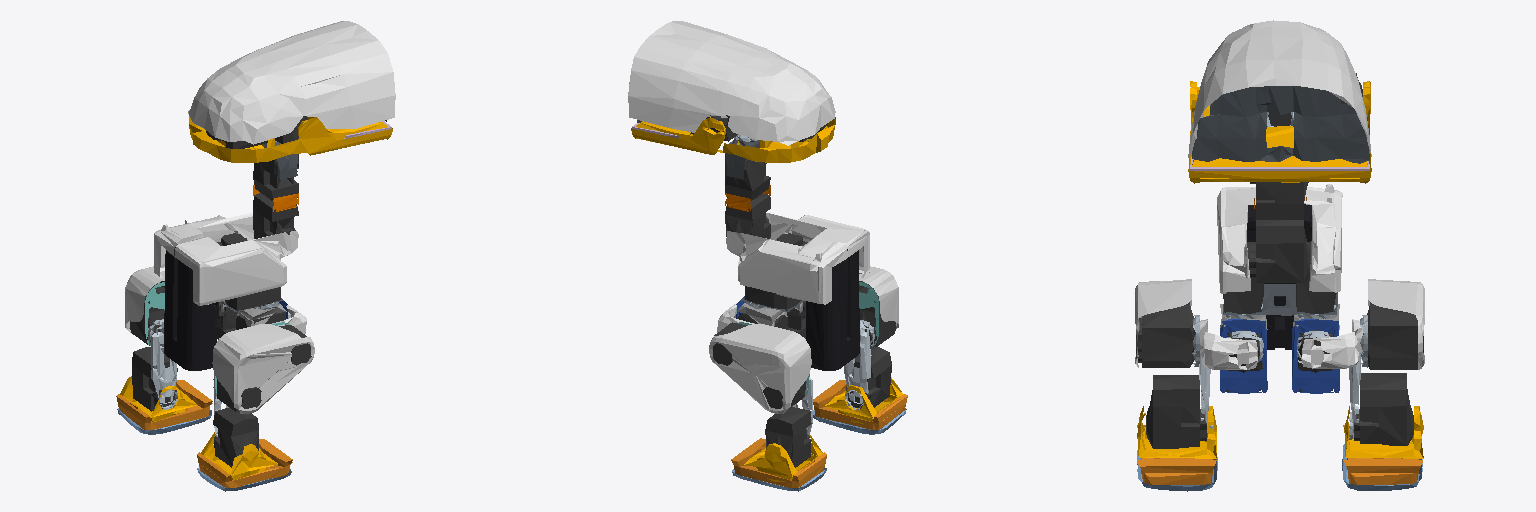
robot.urdf — microduck_alpha_simplified:
<?xml version='1.0' encoding='utf-8'?>
<robot name="microduck_alpha_simplified">
  <link name="world" />
  <link name="body_0">
    <visual>
      <origin xyz="0.006000000052 0.01750000007 -0.004999999888" rpy="0 0 0" />
      <geometry>
        <mesh filename="meshes/0.stl" />
      </geometry>
      <material name="part_0_0">
        <color rgba="0.7137254902 0.7607843137 0.8 1" />
      </material>
    </visual>
    <visual>
      <origin xyz="0.00400000019 1.100499958e-06 -0.01755760051" rpy="0 -0 1.570796327" />
      <geometry>
        <mesh filename="meshes/1.stl" />
      </geometry>
      <material name="part_0_1">
        <color rgba="0.9176470588 0.9176470588 0.9176470588 1" />
      </material>
    </visual>
    <visual>
      <origin xyz="0.00400000019 -0 -0.01750000007" rpy="0 0 1.570796327" />
      <geometry>
        <mesh filename="meshes/2.stl" />
      </geometry>
      <material name="part_0_2">
        <color rgba="0.3490196078 0.3764705882 0.4 1" />
      </material>
    </visual>
    <visual>
      <origin xyz="0.006000000052 0.01750000007 0.01150000002" rpy="0 -1.570796327 3.141592654" />
      <geometry>
        <mesh filename="meshes/3.stl" />
      </geometry>
      <material name="part_0_3">
        <color rgba="0.2862745098 0.2862745098 0.2862745098 1" />
      </material>
    </visual>
    <visual>
      <origin xyz="-0.03596929833 -0 -0.003850490088" rpy="3.124139372 -0 -1.570796327" />
      <geometry>
        <mesh filename="meshes/4.stl" />
      </geometry>
      <material name="part_0_4">
        <color rgba="0.1607843137 0.1607843137 0.1803921569 1" />
      </material>
    </visual>
    <visual>
      <origin xyz="0.006000000052 -0.01750000007 0.01150000002" rpy="0 -1.570796327 -3.141592654" />
      <geometry>
        <mesh filename="meshes/3.stl" />
      </geometry>
      <material name="part_0_3">
        <color rgba="0.2862745098 0.2862745098 0.2862745098 1" />
      </material>
    </visual>
    <visual>
      <origin xyz="0.00400000019 1.100499958e-06 -0.01755760051" rpy="0 -0 1.570796327" />
      <geometry>
        <mesh filename="meshes/5.stl" />
      </geometry>
      <material name="part_0_5">
        <color rgba="0.9176470588 0.9176470588 0.9176470588 1" />
      </material>
    </visual>
    <visual>
      <origin xyz="0.006000000052 -0.01750000007 -0.004999999888" rpy="0 0 0" />
      <geometry>
        <mesh filename="meshes/0.stl" />
      </geometry>
      <material name="part_0_0">
        <color rgba="0.7137254902 0.7607843137 0.8 1" />
      </material>
    </visual>
  </link>
  <joint name="fixed_0" type="fixed">
    <parent link="world" />
    <child link="body_0" />
    <origin xyz="0 0 0.1199999973" rpy="0 -0 0" />
  </joint>
  <link name="body_1">
    <visual>
      <origin xyz="-0.01750000007 -0.002000000095 0.01250000019" rpy="3.141592654 -0 0" />
      <geometry>
        <mesh filename="meshes/6.stl" />
      </geometry>
      <material name="part_1_6">
        <color rgba="0.6470588235 0.6470588235 0.6470588235 1" />
      </material>
    </visual>
    <visual>
      <origin xyz="-0 0 0.01250000019" rpy="-3.141592654 -0 -1.570796327" />
      <geometry>
        <mesh filename="meshes/3.stl" />
      </geometry>
      <material name="part_1_3">
        <color rgba="0.2862745098 0.2862745098 0.2862745098 1" />
      </material>
    </visual>
    <visual>
      <origin xyz="-0 0.01649999991 0.01250000019" rpy="0 1.570796327 -1.570796327" />
      <geometry>
        <mesh filename="meshes/0.stl" />
      </geometry>
      <material name="part_1_0">
        <color rgba="0.7137254902 0.7607843137 0.8 1" />
      </material>
    </visual>
    <visual>
      <origin xyz="-0.01750000007 -0.002000000095 0.01250000019" rpy="3.141592654 -0 0" />
      <geometry>
        <mesh filename="meshes/7.stl" />
      </geometry>
      <material name="part_1_7">
        <color rgba="0.231372549 0.3803921569 0.7058823529 1" />
      </material>
    </visual>
  </link>
  <joint name="left_hip_yaw" type="revolute">
    <parent link="body_0" />
    <child link="body_1" />
    <origin xyz="0.006000000052 0.01750000007 -0.004999999888" rpy="3.141592654 -0 1.570796327" />
    <axis xyz="0 0 1" />
    <limit lower="-0.4363323129985824" upper="0.5235987755982988" effort="1" velocity="1" />
  </joint>
  <link name="body_2">
    <visual>
      <origin xyz="0.02099999972 0 -0.01850000024" rpy="1.570796327 -0 1.570796327" />
      <geometry>
        <mesh filename="meshes/0.stl" />
      </geometry>
      <material name="part_2_0">
        <color rgba="0.7137254902 0.7607843137 0.8 1" />
      </material>
    </visual>
    <visual>
      <origin xyz="-0.01750000007 0 -0.01850000024" rpy="-1.570796327 0 0" />
      <geometry>
        <mesh filename="meshes/8.stl" />
      </geometry>
      <material name="part_2_8">
        <color rgba="0.9019607843 0.9019607843 0.9019607843 1" />
      </material>
    </visual>
  </link>
  <joint name="left_hip_roll" type="revolute">
    <parent link="body_1" />
    <child link="body_2" />
    <origin xyz="-0 0.01649999991 0.01250000019" rpy="-1.570796327 -0 0" />
    <axis xyz="0 0 1" />
    <limit lower="-0.3839724354387516" upper="0.38397243543875337" effort="1" velocity="1" />
  </joint>
  <link name="body_3">
    <visual>
      <origin xyz="0 -0 -0.04250000045" rpy="0 -1.570796327 -1.570796327" />
      <geometry>
        <mesh filename="meshes/9.stl" />
      </geometry>
      <material name="part_3_9">
        <color rgba="0.8666666667 0.8666666667 0.8666666667 1" />
      </material>
    </visual>
    <visual>
      <origin xyz="0.02199999988 0.03577709943 0.01250000019" rpy="0 -1.570796327 -3.141592654" />
      <geometry>
        <mesh filename="meshes/3.stl" />
      </geometry>
      <material name="part_3_3">
        <color rgba="0.2862745098 0.2862745098 0.2862745098 1" />
      </material>
    </visual>
    <visual>
      <origin xyz="0 -0 -0.04250000045" rpy="0 -1.570796327 -1.570796327" />
      <geometry>
        <mesh filename="meshes/10.stl" />
      </geometry>
      <material name="part_3_10">
        <color rgba="0.537254902 0.8549019608 0.8274509804 1" />
      </material>
    </visual>
    <visual>
      <origin xyz="0.02199999988 0.03577709943 -0.00400000019" rpy="0 0 3.141592654" />
      <geometry>
        <mesh filename="meshes/0.stl" />
      </geometry>
      <material name="part_3_0">
        <color rgba="0.7137254902 0.7607843137 0.8 1" />
      </material>
    </visual>
    <visual>
      <origin xyz="0 -0 0.01250000019" rpy="0 -1.570796327 1.570796327" />
      <geometry>
        <mesh filename="meshes/3.stl" />
      </geometry>
      <material name="part_3_3">
        <color rgba="0.2862745098 0.2862745098 0.2862745098 1" />
      </material>
    </visual>
  </link>
  <joint name="left_hip_pitch" type="revolute">
    <parent link="body_2" />
    <child link="body_3" />
    <origin xyz="0.02500000037 0 -0.01850000024" rpy="-1.570796327 -0 -1.570796327" />
    <axis xyz="0 0 1" />
    <limit lower="-1.5707963267949037" upper="1.5707963267948895" effort="1" velocity="1" />
  </joint>
  <link name="body_4">
    <visual>
      <origin xyz="-0.02199999988 0.03577709943 0.03849999979" rpy="0 1.570796327 -1.570796327" />
      <geometry>
        <mesh filename="meshes/11.stl" />
      </geometry>
      <material name="part_4_11">
        <color rgba="0.8117647059 0.8588235294 0.8980392157 1" />
      </material>
    </visual>
    <visual>
      <origin xyz="-0 0.04199999943 -0.01150000002" rpy="0 -1.570796327 -1.570796327" />
      <geometry>
        <mesh filename="meshes/3.stl" />
      </geometry>
      <material name="part_4_3">
        <color rgba="0.2862745098 0.2862745098 0.2862745098 1" />
      </material>
    </visual>
  </link>
  <joint name="left_knee" type="revolute">
    <parent link="body_3" />
    <child link="body_4" />
    <origin xyz="0.02199999988 0.03577709943 -0.00400000019" rpy="3.141592654 0 1.570796327" />
    <axis xyz="0 0 1" />
    <limit lower="-1.570796326794901" upper="1.5707963267948921" effort="1" velocity="1" />
  </joint>
  <link name="body_5">
    <visual>
      <origin xyz="-0.02199999988 0.006222909782 -0.06469999999" rpy="0 -1.570796327 -1.570796327" />
      <geometry>
        <mesh filename="meshes/12.stl" />
      </geometry>
      <material name="part_5_12">
        <color rgba="0.5411764706 0.6823529412 0.8392156863 1" />
      </material>
    </visual>
    <visual>
      <origin xyz="-0.02199999988 0.006222909782 -0.06469999999" rpy="0 -1.570796327 -1.570796327" />
      <geometry>
        <mesh filename="meshes/13.stl" />
      </geometry>
      <material name="part_5_13">
        <color rgba="0.9098039216 0.5725490196 0.1647058824 1" />
      </material>
    </visual>
    <visual>
      <origin xyz="-0 0 -0.03220000118" rpy="0 -0 3.141592654" />
      <geometry>
        <mesh filename="meshes/14.stl" />
      </geometry>
      <material name="part_5_14">
        <color rgba="0.7137254902 0.7607843137 0.8 1" />
      </material>
    </visual>
    <visual>
      <origin xyz="-0.02199999988 0.006222909782 -0.06469999999" rpy="0 -1.570796327 -1.570796327" />
      <geometry>
        <mesh filename="meshes/15.stl" />
      </geometry>
      <material name="part_5_15">
        <color rgba="0.9803921569 0.7137254902 0.003921568627 1" />
      </material>
    </visual>
  </link>
  <joint name="left_ankle" type="revolute">
    <parent link="body_4" />
    <child link="body_5" />
    <origin xyz="-0 0.04199999943 -0.02600000054" rpy="3.141592654 0 0" />
    <axis xyz="0 0 1" />
    <limit lower="-1.5707963267949019" upper="1.5707963267948912" effort="1" velocity="1" />
  </joint>
  <link name="body_6">
    <visual>
      <origin xyz="0.02199999988 0.05000000075 0.02800000086" rpy="0 1.570796327 -1.570796327" />
      <geometry>
        <mesh filename="meshes/16.stl" />
      </geometry>
      <material name="part_6_16">
        <color rgba="0.9725490196 0.5294117647 0.003921568627 1" />
      </material>
    </visual>
    <visual>
      <origin xyz="0 0 0.01449999958" rpy="0 -1.570796327 -1.570796327" />
      <geometry>
        <mesh filename="meshes/3.stl" />
      </geometry>
      <material name="part_6_3">
        <color rgba="0.2862745098 0.2862745098 0.2862745098 1" />
      </material>
    </visual>
    <visual>
      <origin xyz="0 -0.05000000075 0.01449999958" rpy="0 -1.570796327 1.570796327" />
      <geometry>
        <mesh filename="meshes/3.stl" />
      </geometry>
      <material name="part_6_3">
        <color rgba="0.2862745098 0.2862745098 0.2862745098 1" />
      </material>
    </visual>
    <visual>
      <origin xyz="0.02199999988 0.05000000075 0.003000000026" rpy="0 1.570796327 -1.570796327" />
      <geometry>
        <mesh filename="meshes/16.stl" />
      </geometry>
      <material name="part_6_16">
        <color rgba="0.9725490196 0.5294117647 0.003921568627 1" />
      </material>
    </visual>
  </link>
  <joint name="neck_pitch" type="revolute">
    <parent link="body_0" />
    <child link="body_6" />
    <origin xyz="0.02600000054 0.01450110041 0.03244239837" rpy="-1.570796327 -0 3.141592654" />
    <axis xyz="0 0 1" />
    <limit lower="-1.5707963267948966" upper="1.0471975511965976" effort="1" velocity="1" />
  </joint>
  <link name="body_7">
    <visual>
      <origin xyz="-0 0.02879310027 -0.01449999958" rpy="0 -1.570796327 -1.570796327" />
      <geometry>
        <mesh filename="meshes/17.stl" />
      </geometry>
      <material name="part_7_17">
        <color rgba="0.3490196078 0.3764705882 0.4 1" />
      </material>
    </visual>
    <visual>
      <origin xyz="-0 0.02079310082 -0.01449999958" rpy="1.570796327 -0 0" />
      <geometry>
        <mesh filename="meshes/0.stl" />
      </geometry>
      <material name="part_7_0">
        <color rgba="0.7137254902 0.7607843137 0.8 1" />
      </material>
    </visual>
  </link>
  <joint name="head_pitch" type="revolute">
    <parent link="body_6" />
    <child link="body_7" />
    <origin xyz="0 -0.05000000075 0" rpy="3.141592654 -0 0" />
    <axis xyz="0 0 1" />
    <limit lower="-1.5707963267948966" upper="1.5707963267948966" effort="1" velocity="1" />
  </joint>
  <link name="body_8">
    <visual>
      <origin xyz="0 0 0.009999999776" rpy="0 -0 1.570796327" />
      <geometry>
        <mesh filename="meshes/18.stl" />
      </geometry>
      <material name="part_8_18">
        <color rgba="0.768627451 0.8862745098 0.9529411765 1" />
      </material>
    </visual>
    <visual>
      <origin xyz="0 0 0.01449999958" rpy="0 -1.570796327 -1.570796327" />
      <geometry>
        <mesh filename="meshes/3.stl" />
      </geometry>
      <material name="part_8_3">
        <color rgba="0.2862745098 0.2862745098 0.2862745098 1" />
      </material>
    </visual>
    <visual>
      <origin xyz="-0.01600000076 0 0.01449999958" rpy="0 -1.570796327 -0" />
      <geometry>
        <mesh filename="meshes/0.stl" />
      </geometry>
      <material name="part_8_0">
        <color rgba="0.7137254902 0.7607843137 0.8 1" />
      </material>
    </visual>
  </link>
  <joint name="head_yaw" type="revolute">
    <parent link="body_7" />
    <child link="body_8" />
    <origin xyz="-0 0.01869310066 -0.01449999958" rpy="1.570796327 -0 3.141592654" />
    <axis xyz="0 0 1" />
    <limit lower="-2.967059728390364" upper="2.967059728390357" effort="1" velocity="1" />
  </joint>
  <link name="body_9">
    <visual>
      <origin xyz="-0.00549999997 0 -0.01799999923" rpy="1.570796327 -0 1.570796327" />
      <geometry>
        <mesh filename="meshes/19.stl" />
      </geometry>
      <material name="part_9_19">
        <color rgba="0.3490196078 0.3764705882 0.4 1" />
      </material>
    </visual>
    <visual>
      <origin xyz="0.003958580084 0.02549999952 -0.01799999923" rpy="0 -0 -1.570796327" />
      <geometry>
        <mesh filename="meshes/3.stl" />
      </geometry>
      <material name="part_9_3">
        <color rgba="0.2862745098 0.2862745098 0.2862745098 1" />
      </material>
    </visual>
    <visual>
      <origin xyz="-0.003641420044 0 -0.01799960062" rpy="1.570796327 -0 1.570796327" />
      <geometry>
        <mesh filename="meshes/20.stl" />
      </geometry>
      <material name="part_9_20">
        <color rgba="0.8509803922 0.7568627451 0.8666666667 1" />
      </material>
    </visual>
    <visual>
      <origin xyz="0 0 0.01449999958" rpy="0 -1.570796327 -1.570796327" />
      <geometry>
        <mesh filename="meshes/3.stl" />
      </geometry>
      <material name="part_9_3">
        <color rgba="0.2862745098 0.2862745098 0.2862745098 1" />
      </material>
    </visual>
    <visual>
      <origin xyz="-0.004401179962 1.814130002e-07 -0.0181351006" rpy="1.570796327 -0 1.570796327" />
      <geometry>
        <mesh filename="meshes/21.stl" />
      </geometry>
      <material name="part_9_21">
        <color rgba="0.8509803922 0.7568627451 0.8666666667 1" />
      </material>
    </visual>
    <visual>
      <origin xyz="-0.004499999806 0 -0.01799999923" rpy="1.570796327 -0 1.570796327" />
      <geometry>
        <mesh filename="meshes/22.stl" />
      </geometry>
      <material name="part_9_22">
        <color rgba="0.9803921569 0.7137254902 0.003921568627 1" />
      </material>
    </visual>
    <visual>
      <origin xyz="-0.004499999806 -0 -0.01799999923" rpy="1.570796327 -0 1.570796327" />
      <geometry>
        <mesh filename="meshes/23.stl" />
      </geometry>
      <material name="part_9_23">
        <color rgba="0.9019607843 0.9019607843 0.9019607843 1" />
      </material>
    </visual>
    <visual>
      <origin xyz="-0.003541419981 -0 -0.01799999923" rpy="1.570796327 -0 1.570796327" />
      <geometry>
        <mesh filename="meshes/24.stl" />
      </geometry>
      <material name="part_9_24">
        <color rgba="0.9803921569 0.7137254902 0.003921568627 1" />
      </material>
    </visual>
  </link>
  <joint name="head_roll" type="revolute">
    <parent link="body_8" />
    <child link="body_9" />
    <origin xyz="-0.0178999994 0 0.01449999958" rpy="0 -1.570796327 -0" />
    <axis xyz="0 0 1" />
    <limit lower="-0.4363323129986037" upper="0.43633231299856107" effort="1" velocity="1" />
  </joint>
  <link name="body_10">
    <visual>
      <origin xyz="-0.01750000007 -0.002000000095 0.01250000019" rpy="3.141592654 -0 0" />
      <geometry>
        <mesh filename="meshes/6.stl" />
      </geometry>
      <material name="part_10_6">
        <color rgba="0.6470588235 0.6470588235 0.6470588235 1" />
      </material>
    </visual>
    <visual>
      <origin xyz="-0 0 0.01250000019" rpy="-3.141592654 -0 -1.570796327" />
      <geometry>
        <mesh filename="meshes/3.stl" />
      </geometry>
      <material name="part_10_3">
        <color rgba="0.2862745098 0.2862745098 0.2862745098 1" />
      </material>
    </visual>
    <visual>
      <origin xyz="-0.01750000007 -0.002000000095 0.01250000019" rpy="3.141592654 -0 0" />
      <geometry>
        <mesh filename="meshes/7.stl" />
      </geometry>
      <material name="part_10_7">
        <color rgba="0.231372549 0.3803921569 0.7058823529 1" />
      </material>
    </visual>
    <visual>
      <origin xyz="-0 0.01649999991 0.01250000019" rpy="0 1.570796327 -1.570796327" />
      <geometry>
        <mesh filename="meshes/0.stl" />
      </geometry>
      <material name="part_10_0">
        <color rgba="0.7137254902 0.7607843137 0.8 1" />
      </material>
    </visual>
  </link>
  <joint name="right_hip_yaw" type="revolute">
    <parent link="body_0" />
    <child link="body_10" />
    <origin xyz="0.006000000052 -0.01750000007 -0.004999999888" rpy="3.141592654 -0 1.570796327" />
    <axis xyz="0 0 1" />
    <limit lower="-0.5235987755982988" upper="0.4363323129985824" effort="1" velocity="1" />
  </joint>
  <link name="body_11">
    <visual>
      <origin xyz="-0.01750000007 0 -0.01850000024" rpy="-1.570796327 0 0" />
      <geometry>
        <mesh filename="meshes/8.stl" />
      </geometry>
      <material name="part_11_8">
        <color rgba="0.9019607843 0.9019607843 0.9019607843 1" />
      </material>
    </visual>
    <visual>
      <origin xyz="0.02500000037 0 -0.01850000024" rpy="1.570796327 -0 -1.570796327" />
      <geometry>
        <mesh filename="meshes/0.stl" />
      </geometry>
      <material name="part_11_0">
        <color rgba="0.7137254902 0.7607843137 0.8 1" />
      </material>
    </visual>
  </link>
  <joint name="right_hip_roll" type="revolute">
    <parent link="body_10" />
    <child link="body_11" />
    <origin xyz="-0 0.01649999991 0.01250000019" rpy="1.570796327 0 3.141592654" />
    <axis xyz="0 0 1" />
    <limit lower="-0.3839724354387525" upper="0.3839724354387525" effort="1" velocity="1" />
  </joint>
  <link name="body_12">
    <visual>
      <origin xyz="-0.02199999988 0.03577709943 0.01250000019" rpy="0 -1.570796327 0" />
      <geometry>
        <mesh filename="meshes/3.stl" />
      </geometry>
      <material name="part_12_3">
        <color rgba="0.2862745098 0.2862745098 0.2862745098 1" />
      </material>
    </visual>
    <visual>
      <origin xyz="-0.02199999988 0.03577709943 0" rpy="3.141592654 -0 -0" />
      <geometry>
        <mesh filename="meshes/0.stl" />
      </geometry>
      <material name="part_12_0">
        <color rgba="0.7137254902 0.7607843137 0.8 1" />
      </material>
    </visual>
    <visual>
      <origin xyz="0 -0 0.04349999875" rpy="0 1.570796327 1.570796327" />
      <geometry>
        <mesh filename="meshes/10.stl" />
      </geometry>
      <material name="part_12_10">
        <color rgba="0.537254902 0.8549019608 0.8274509804 1" />
      </material>
    </visual>
    <visual>
      <origin xyz="-0 -0 -0.04250000045" rpy="0 1.570796327 1.570796327" />
      <geometry>
        <mesh filename="meshes/25.stl" />
      </geometry>
      <material name="part_12_25">
        <color rgba="0.8666666667 0.8666666667 0.8666666667 1" />
      </material>
    </visual>
    <visual>
      <origin xyz="0 -0 0.01250000019" rpy="0 -1.570796327 1.570796327" />
      <geometry>
        <mesh filename="meshes/3.stl" />
      </geometry>
      <material name="part_12_3">
        <color rgba="0.2862745098 0.2862745098 0.2862745098 1" />
      </material>
    </visual>
  </link>
  <joint name="right_hip_pitch" type="revolute">
    <parent link="body_11" />
    <child link="body_12" />
    <origin xyz="0.02500000037 0 -0.01850000024" rpy="-1.570796327 -0 -1.570796327" />
    <axis xyz="0 0 1" />
    <limit lower="-1.5707963267949" upper="1.570796326794893" effort="1" velocity="1" />
  </joint>
  <link name="body_13">
    <visual>
      <origin xyz="-0.04199999943 -0 -0.01150000002" rpy="0 -1.570796327 -0" />
      <geometry>
        <mesh filename="meshes/3.stl" />
      </geometry>
      <material name="part_13_3">
        <color rgba="0.2862745098 0.2862745098 0.2862745098 1" />
      </material>
    </visual>
    <visual>
      <origin xyz="-0.03577709943 -0.02199999988 0.03849999979" rpy="0 1.570796327 -0" />
      <geometry>
        <mesh filename="meshes/11.stl" />
      </geometry>
      <material name="part_13_11">
        <color rgba="0.8117647059 0.8588235294 0.8980392157 1" />
      </material>
    </visual>
  </link>
  <joint name="right_knee" type="revolute">
    <parent link="body_12" />
    <child link="body_13" />
    <origin xyz="-0.02199999988 0.03577709943 -0.00400000019" rpy="3.141592654 -0 -0" />
    <axis xyz="0 0 1" />
    <limit lower="-1.570796326794901" upper="1.5707963267948921" effort="1" velocity="1" />
  </joint>
  <link name="body_14">
    <visual>
      <origin xyz="-0.02199999988 -0.006222909782 -0.06469999999" rpy="0 1.570796327 -1.570796327" />
      <geometry>
        <mesh filename="meshes/26.stl" />
      </geometry>
      <material name="part_14_26">
        <color rgba="0.9803921569 0.7137254902 0.003921568627 1" />
      </material>
    </visual>
    <visual>
      <origin xyz="-0.02199999988 -0.006222909782 -0.06469999999" rpy="0 1.570796327 -1.570796327" />
      <geometry>
        <mesh filename="meshes/27.stl" />
      </geometry>
      <material name="part_14_27">
        <color rgba="0.5411764706 0.6823529412 0.8392156863 1" />
      </material>
    </visual>
    <visual>
      <origin xyz="0 -0 -0.02920000069" rpy="3.141592654 -0 3.141592654" />
      <geometry>
        <mesh filename="meshes/14.stl" />
      </geometry>
      <material name="part_14_14">
        <color rgba="0.7137254902 0.7607843137 0.8 1" />
      </material>
    </visual>
    <visual>
      <origin xyz="-0.02199999988 -0.006222909782 -0.06469999999" rpy="0 1.570796327 -1.570796327" />
      <geometry>
        <mesh filename="meshes/28.stl" />
      </geometry>
      <material name="part_14_28">
        <color rgba="0.9098039216 0.5725490196 0.1647058824 1" />
      </material>
    </visual>
  </link>
  <joint name="right_ankle" type="revolute">
    <parent link="body_13" />
    <child link="body_14" />
    <origin xyz="-0.04199999943 -0 -0.02600000054" rpy="3.141592654 0 -1.570796327" />
    <axis xyz="0 0 1" />
    <limit lower="-1.5707963267949028" upper="1.5707963267948903" effort="1" velocity="1" />
  </joint>
</robot>

--- Render facts (derived) ---
3 views of the same robot in one strip: view 1: azimuth 30°, elevation 25°; view 2: azimuth 150°, elevation 25°; view 3: azimuth 270°, elevation 25° (orthographic).
Robot: microduck_alpha_simplified — 16 links, 15 joints (14 revolute, 1 fixed); root link world; default pose: every joint at zero.
Links seen in each view (by area): view 1: body_9, body_0, body_12, body_14, body_5, body_6, body_4, body_3, body_13, body_10; view 2: body_9, body_0, body_3, body_5, body_14, body_6, body_12, body_13, body_4, body_1, body_7; view 3: body_9, body_0, body_6, body_3, body_12, body_13, body_4, body_5, body_14, body_1, body_10, body_2 (+1 smaller).
Link boxes in pixels (bbox=[...]): body_9: bbox=[188, 21, 395, 162]; body_0: bbox=[154, 213, 298, 370]; body_12: bbox=[212, 322, 314, 413]; body_14: bbox=[197, 432, 292, 491]; body_5: bbox=[116, 376, 212, 434]; body_6: bbox=[253, 143, 298, 238]; body_4: bbox=[132, 321, 177, 411]; body_3: bbox=[125, 266, 164, 345]; body_13: bbox=[213, 374, 258, 467]; body_10: bbox=[236, 301, 290, 329]; body_9: bbox=[628, 21, 835, 162]; body_0: bbox=[726, 213, 869, 370]; body_3: bbox=[709, 322, 811, 413]; body_5: bbox=[731, 435, 826, 491]; body_14: bbox=[813, 377, 907, 434]; body_6: bbox=[725, 142, 770, 238]; body_12: bbox=[859, 266, 898, 346]; body_13: bbox=[844, 321, 891, 408]; body_4: bbox=[765, 377, 812, 467]; body_1: bbox=[734, 296, 787, 329]; body_7: bbox=[725, 134, 759, 179]; body_9: bbox=[1188, 20, 1371, 183]; body_0: bbox=[1217, 184, 1342, 349]; body_6: bbox=[1250, 182, 1309, 282]; body_3: bbox=[1360, 279, 1424, 369]; body_12: bbox=[1135, 279, 1199, 367]; body_13: bbox=[1146, 354, 1210, 448]; body_4: bbox=[1349, 354, 1413, 445]; body_5: bbox=[1342, 406, 1423, 490]; body_14: bbox=[1137, 406, 1217, 491]; body_1: bbox=[1292, 304, 1339, 393]; body_10: bbox=[1220, 304, 1267, 393]; body_2: bbox=[1302, 315, 1367, 368].
Bounding box of the posed robot: 0.1413 × 0.1399 × 0.2617 m (x, y, z).
Meshes: 29 distinct files referenced, 59 mesh visuals loaded (29 binary STL).
